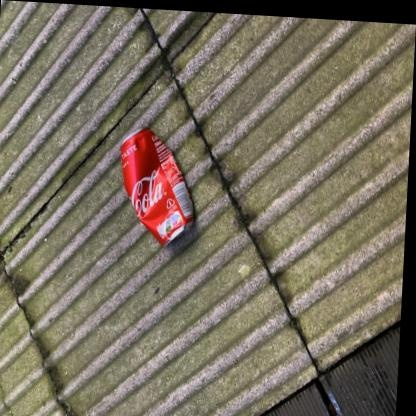trash: (120, 128, 192, 244)
